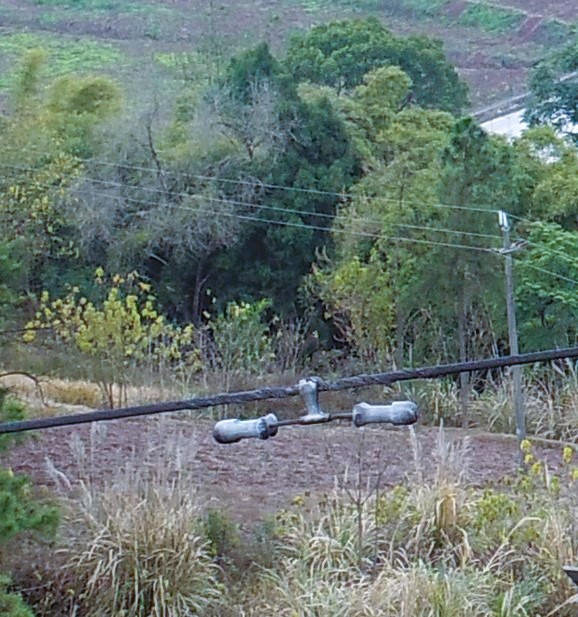Shockproof hammer: (200, 358, 423, 447)
